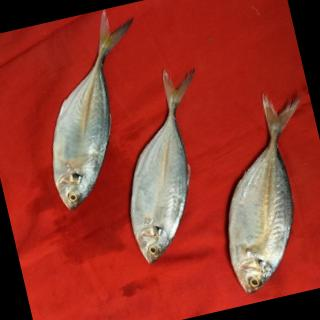Ikan: (18, 3, 175, 215), (96, 58, 242, 272), (193, 81, 320, 298)
